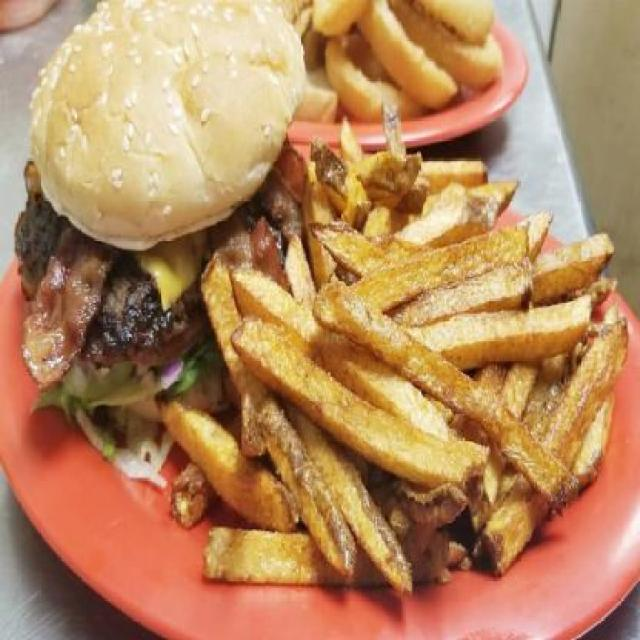french fries: (210, 148, 621, 609)
hamburger: (7, 3, 287, 446)
